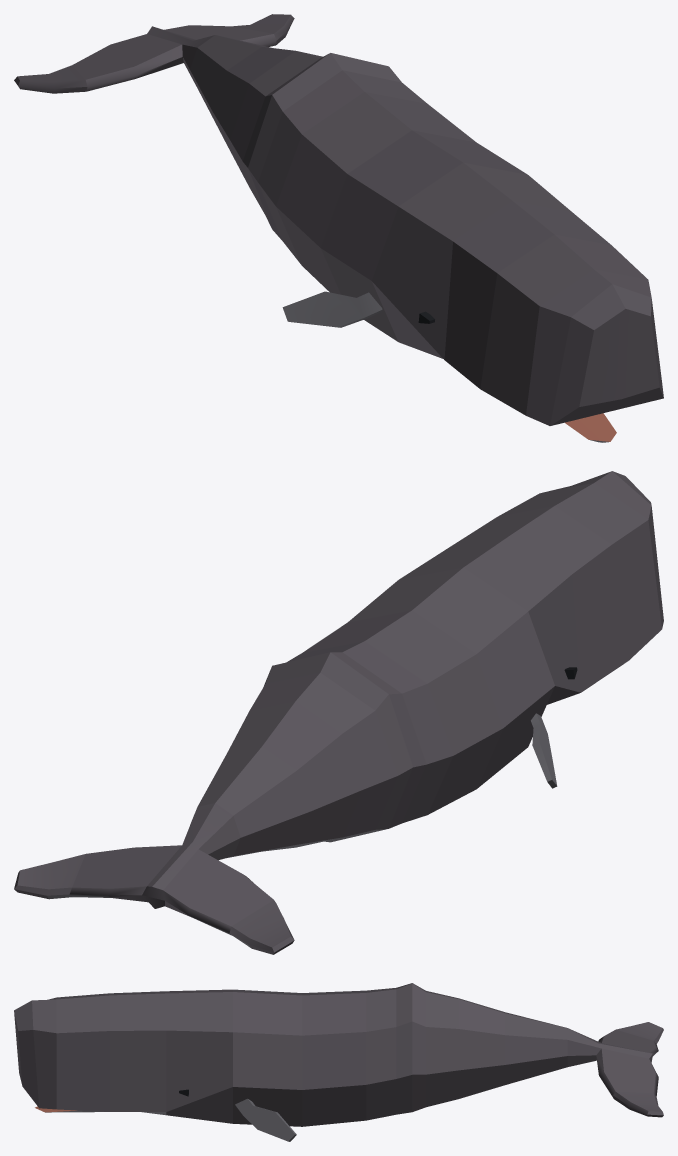
The model's file is Sperm Whale.glb.
The picture shows the model from 3 angles, top to bottom: view 1: azimuth 30°, elevation 25°; view 2: azimuth 150°, elevation 25°; view 3: azimuth 270°, elevation 25°; orthographic projection. The views are drawn at different scales.
Visible parts, largest first — view 1: Geo_SpermWhale; view 2: Geo_SpermWhale; view 3: Geo_SpermWhale.
Part boxes in pixels (x1,y1,x2,y2): Geo_SpermWhale: (14, 14, 663, 442); Geo_SpermWhale: (14, 471, 663, 954); Geo_SpermWhale: (14, 983, 663, 1141).
Size of the model in its own units: 219 by 159 by 662.
Materials: 1 (1 with a texture image).
